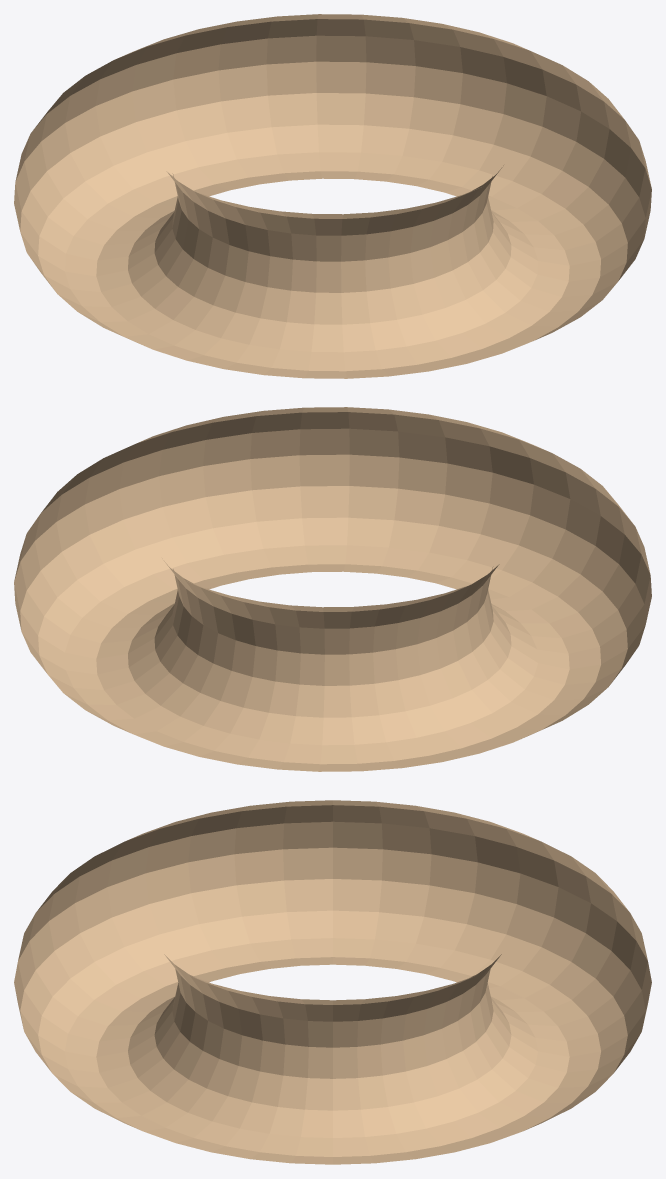
File: proc-lager.glb
3 views of the same model, one above another, from view 1: azimuth 30°, elevation 25°; view 2: azimuth 150°, elevation 25°; view 3: azimuth 270°, elevation 25° (orthographic).
Size of the model in its own units: 124 by 32 by 124.
